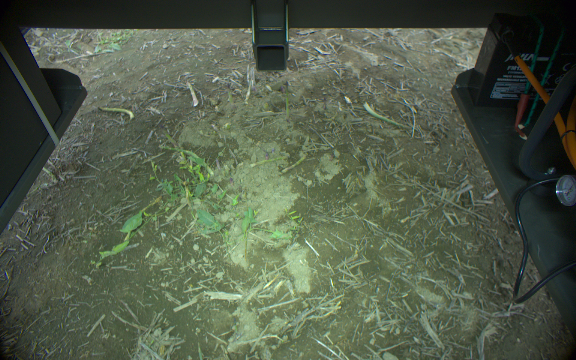aspa: (361, 101, 412, 130), (95, 103, 134, 121), (279, 154, 307, 174), (249, 153, 290, 166), (279, 85, 291, 124)
